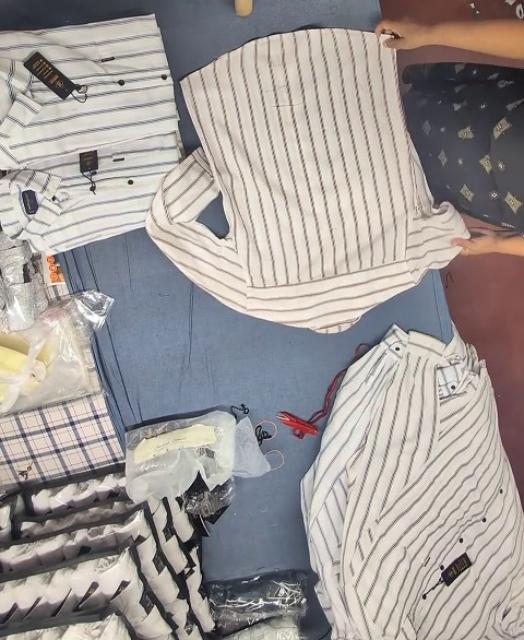new-garment: (146, 28, 466, 332)
